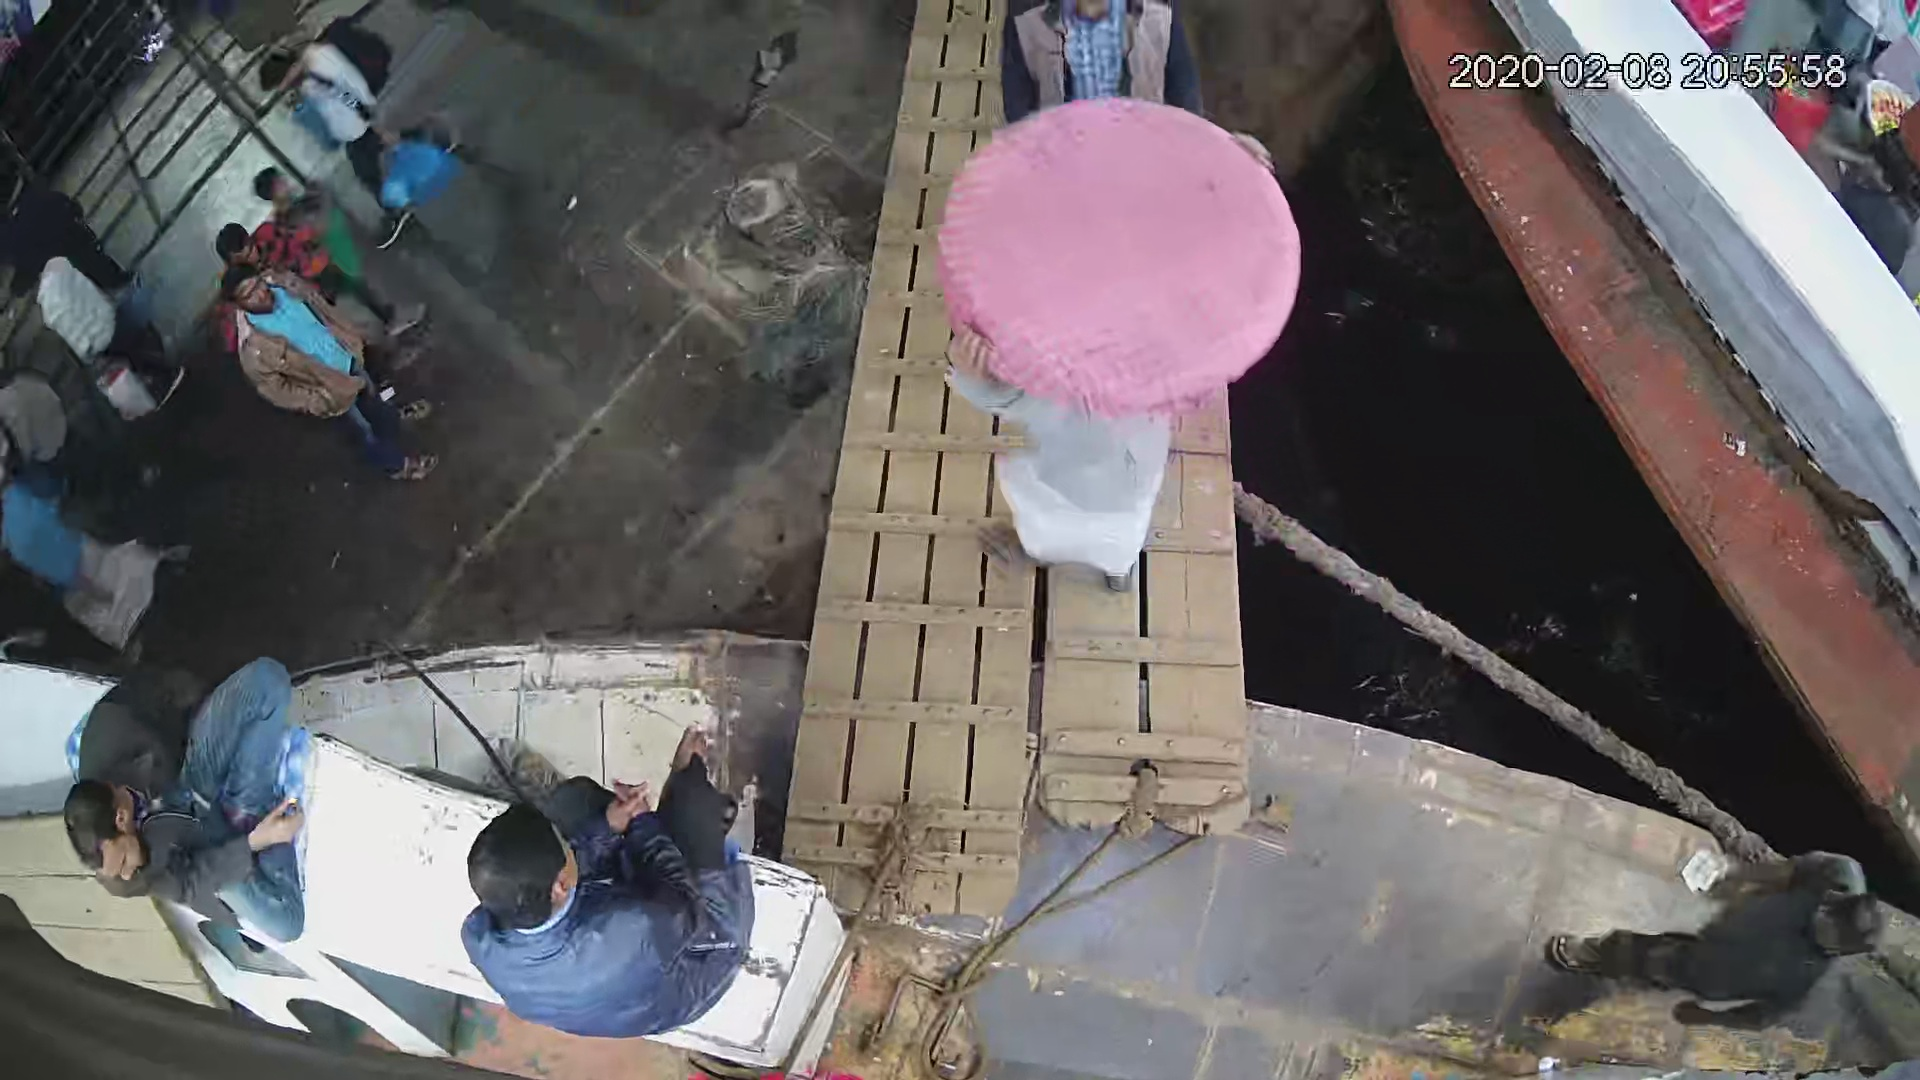person: (934, 128, 1288, 595), (449, 724, 758, 1043), (56, 647, 319, 947), (1534, 837, 1896, 1033), (236, 276, 441, 487), (254, 37, 452, 249), (1, 486, 186, 657), (31, 239, 188, 411), (994, 1, 1200, 123)
